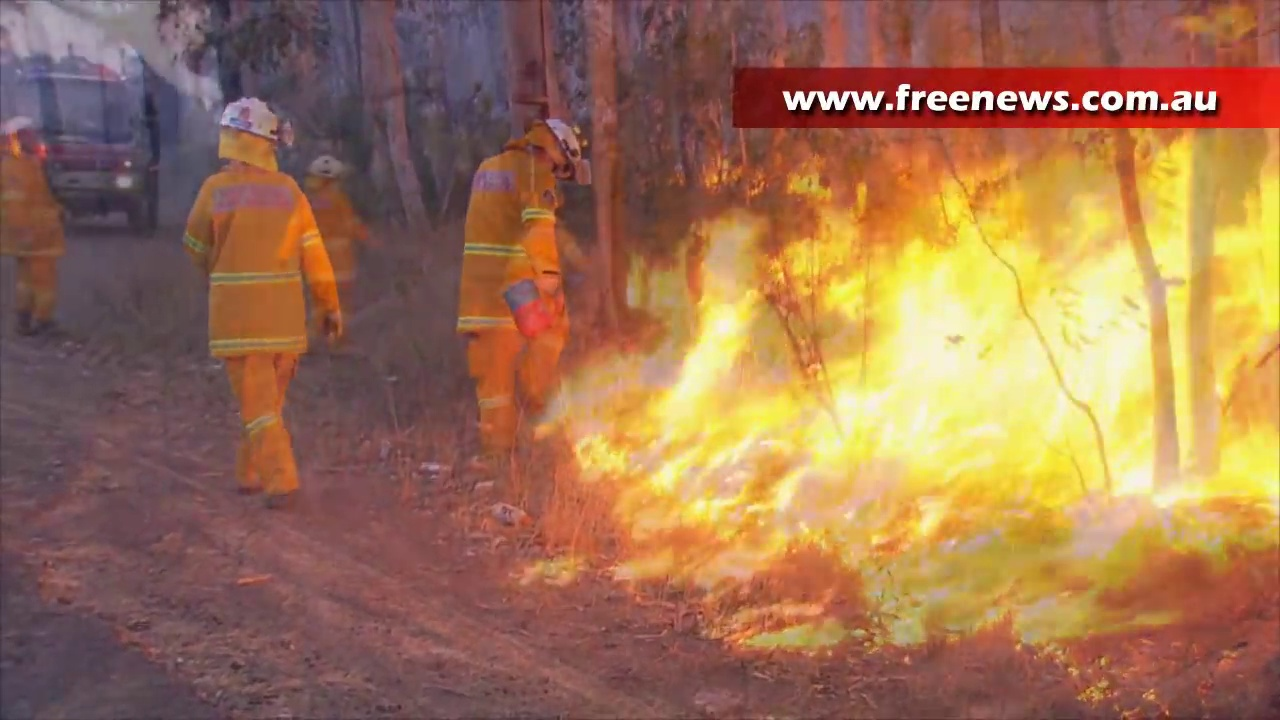fire: (576, 147, 1280, 622)
